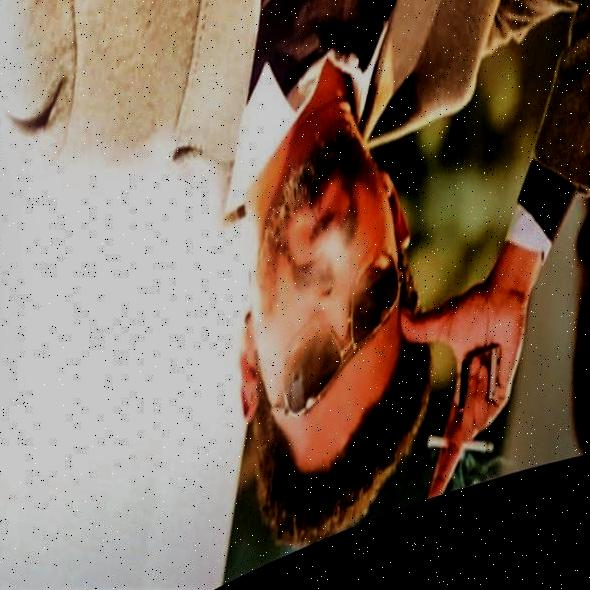smoke: (309, 220, 358, 296)
